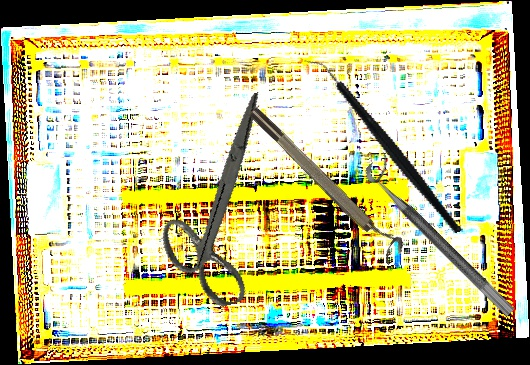Chopper: (301, 29, 464, 262)
Fixation Ring: (361, 151, 528, 318), (245, 97, 409, 266)
Iris Scissors: (128, 91, 317, 319)
